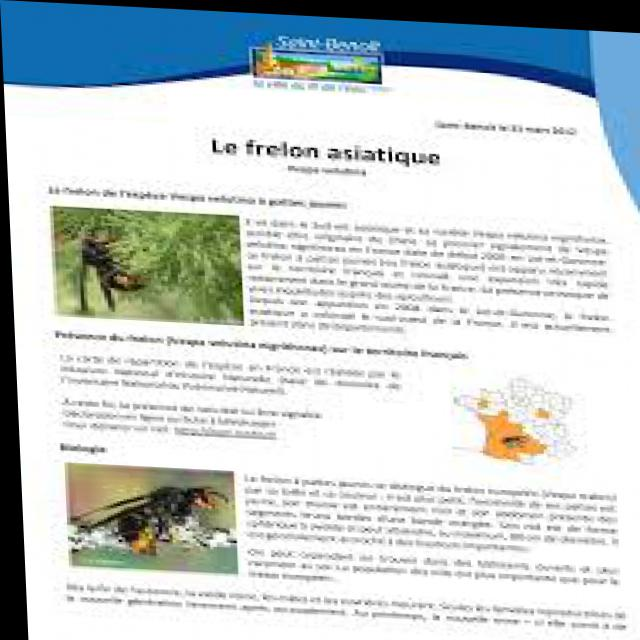Vespa Velutina: (65, 465, 230, 564), (62, 219, 154, 316)
